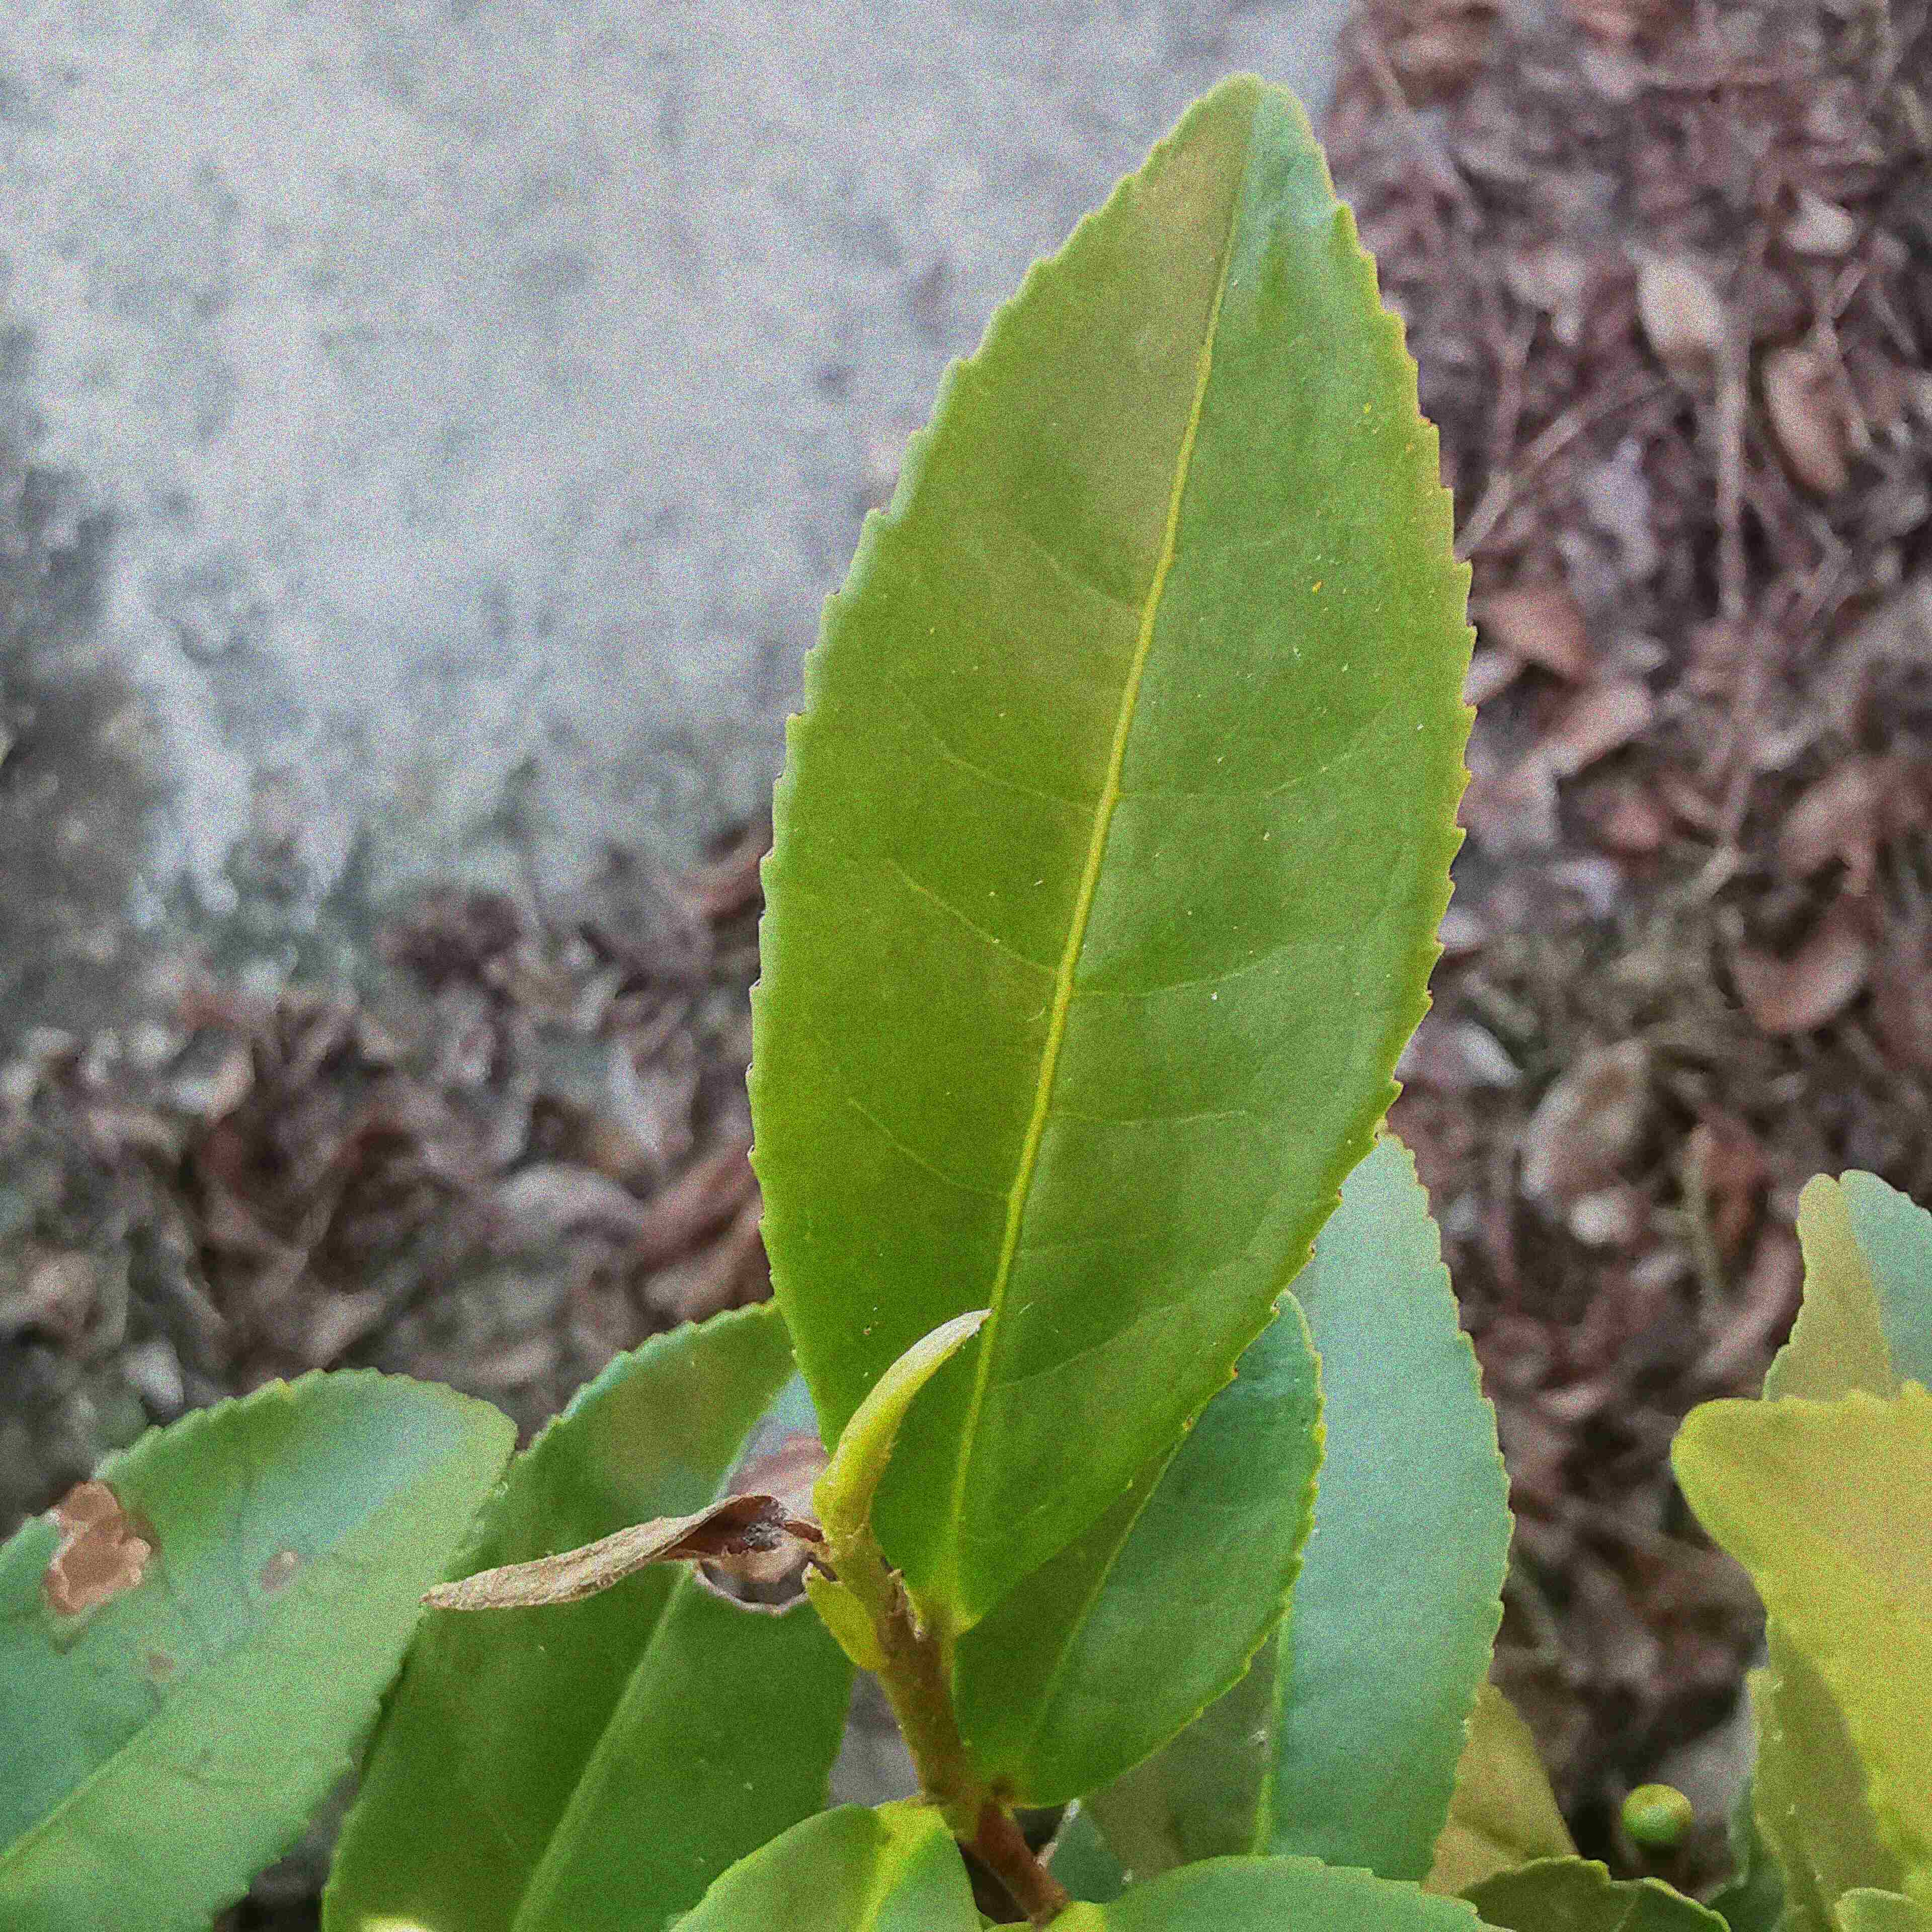healthy: (745, 78, 1484, 1629)
tanju_high: (5, 1357, 522, 1930)
